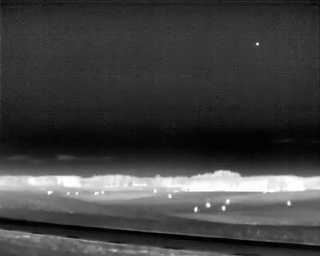BIRD: (254, 39, 262, 49)
